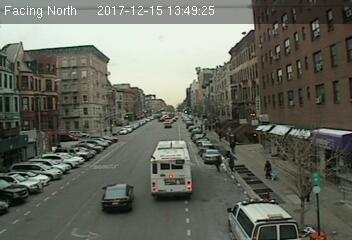bus: (149, 140, 192, 196)
car: (100, 183, 136, 212), (202, 150, 222, 164)
pedestrian: (226, 152, 238, 172), (263, 160, 273, 179)
police: (226, 197, 302, 240)
